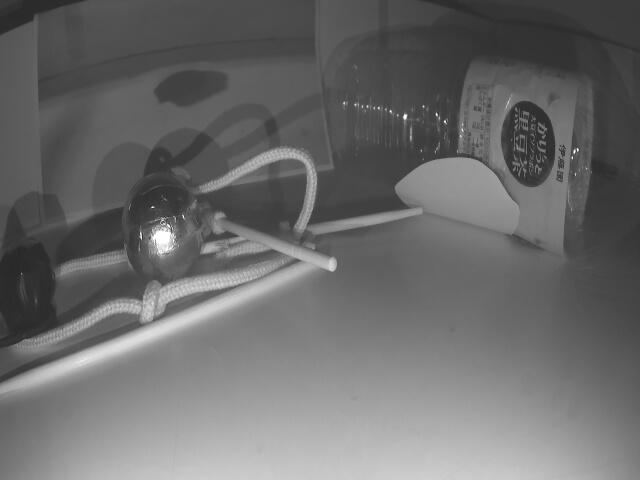Dead: (0, 237, 57, 341)
Live: (121, 178, 207, 280)
